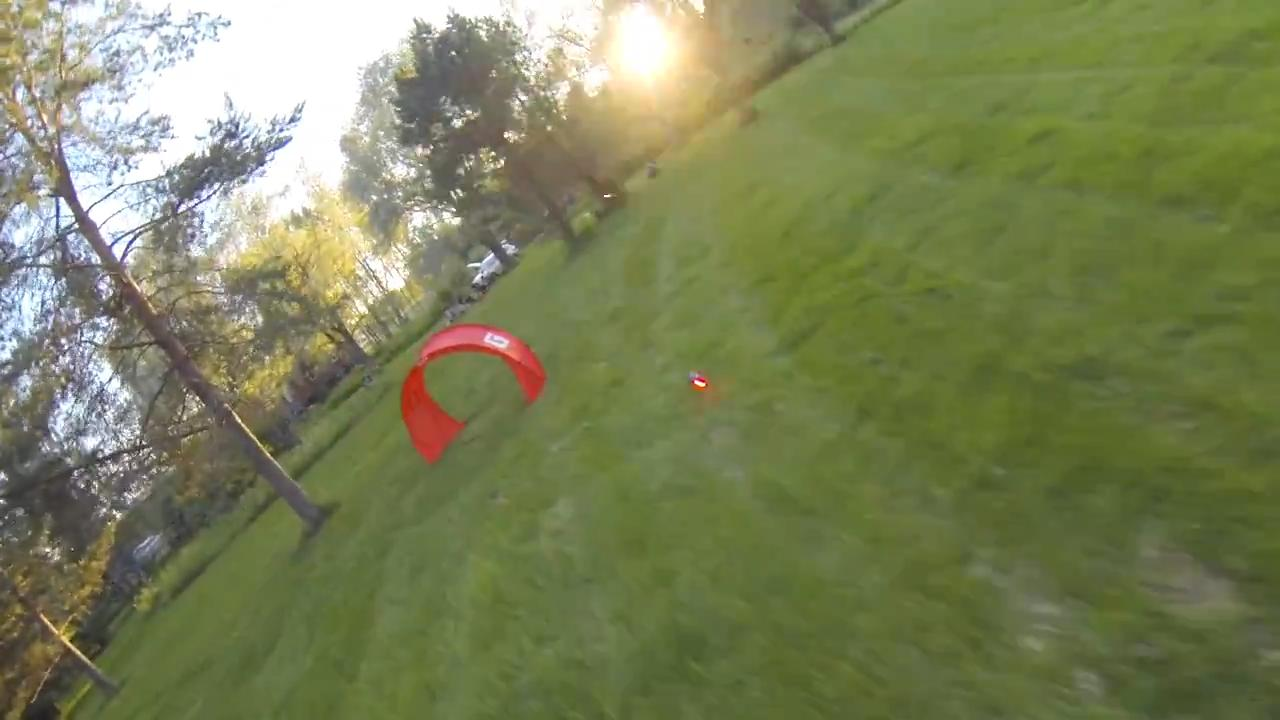gate: (398, 320, 548, 467)
